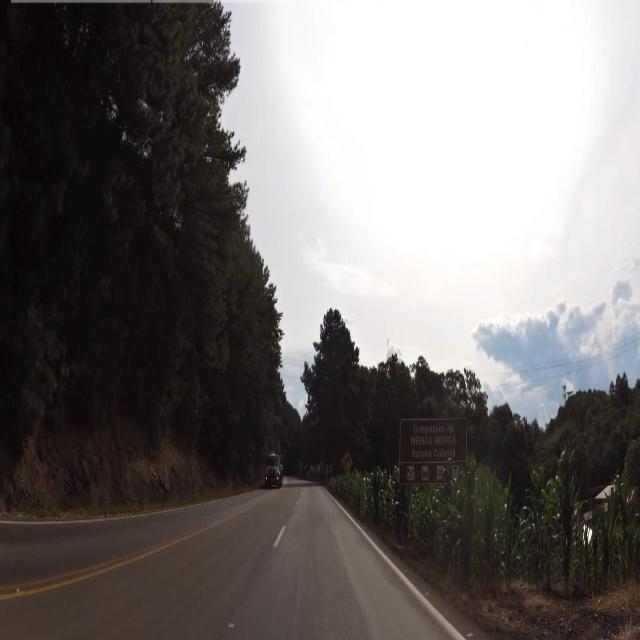TUR-4: (400, 409, 474, 482)
